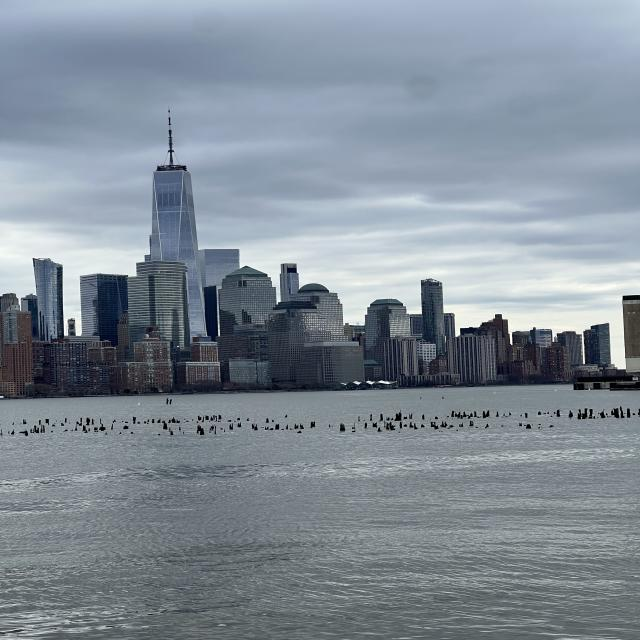WTC: (148, 105, 198, 261)
